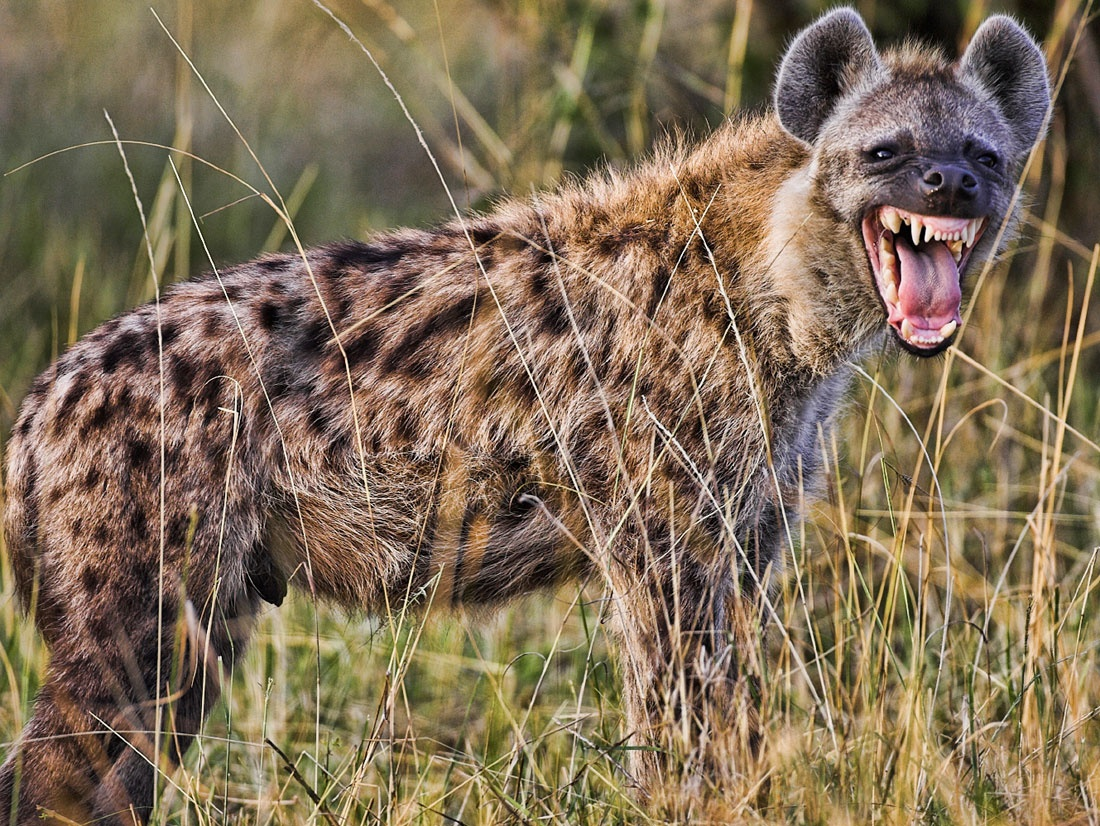hyna: (0, 5, 1058, 826)
